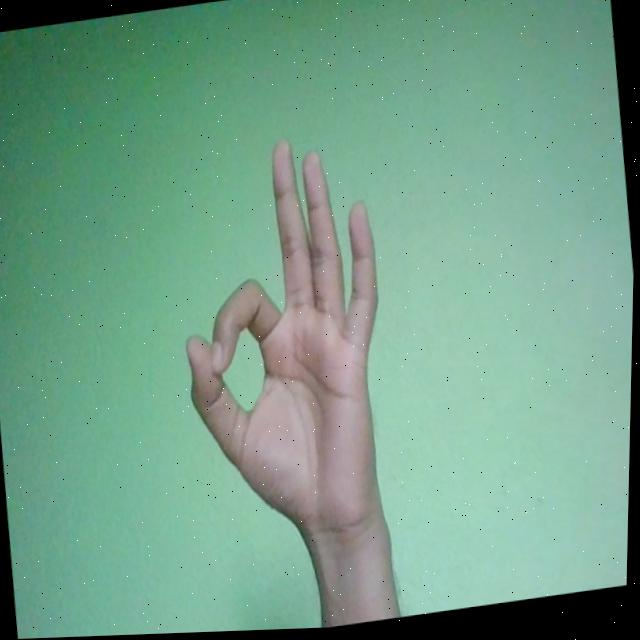Ok: (162, 126, 408, 561)
